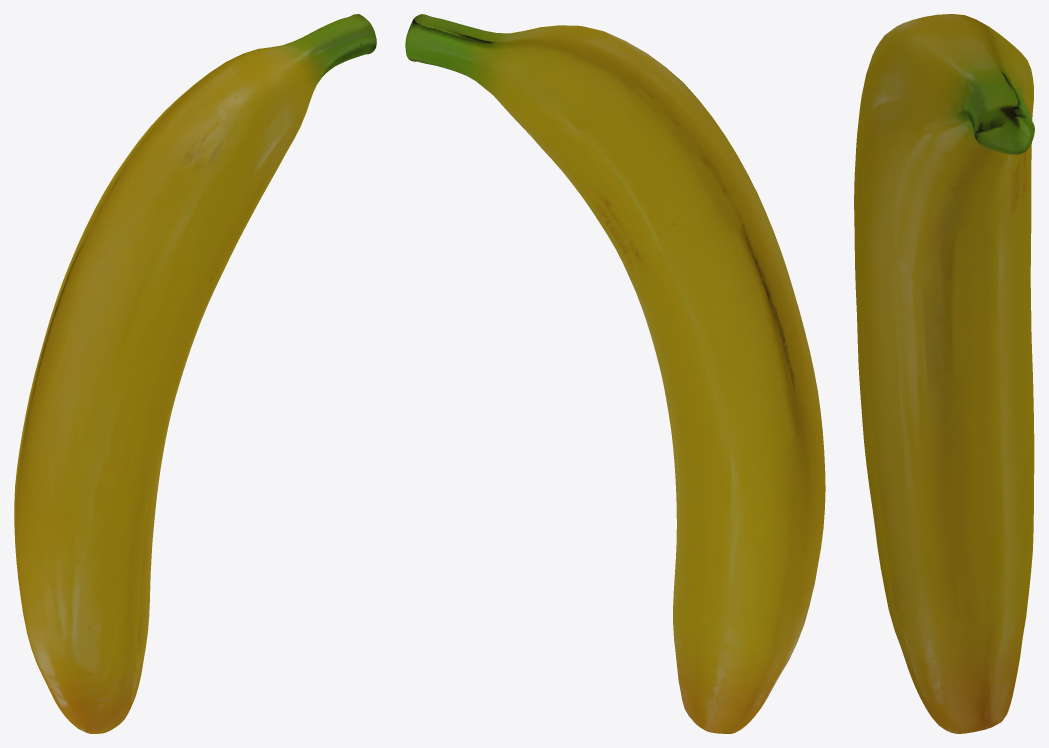
The picture shows the model from 3 angles, left to right: view 1: azimuth 30°, elevation 25°; view 2: azimuth 150°, elevation 25°; view 3: azimuth 270°, elevation 25°; orthographic projection. The views are drawn at different scales.
Size of the model in its own units: 10.88 by 17.83 by 3.67.
1 material, 1 textured.
